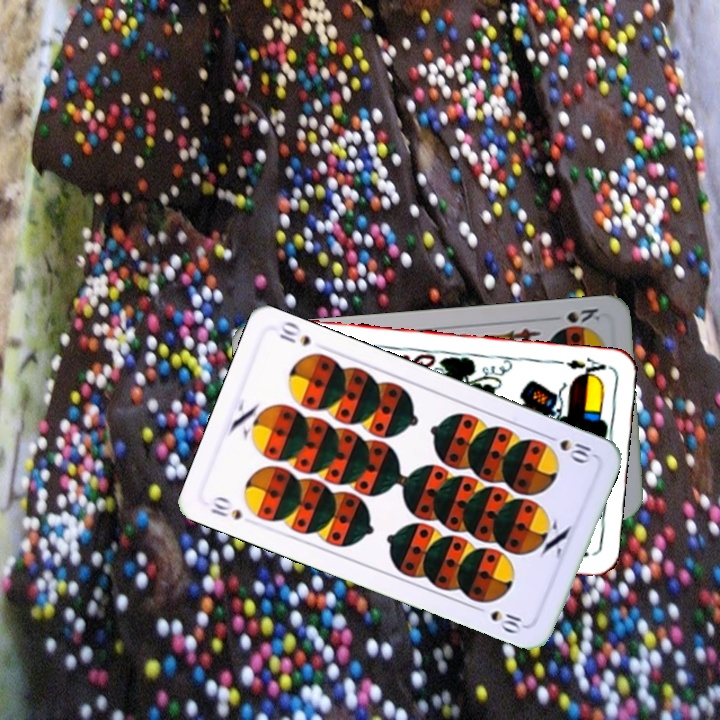EA: (551, 353, 608, 381)
S10: (541, 430, 597, 467), (206, 492, 245, 523)
SK: (562, 304, 604, 325)
